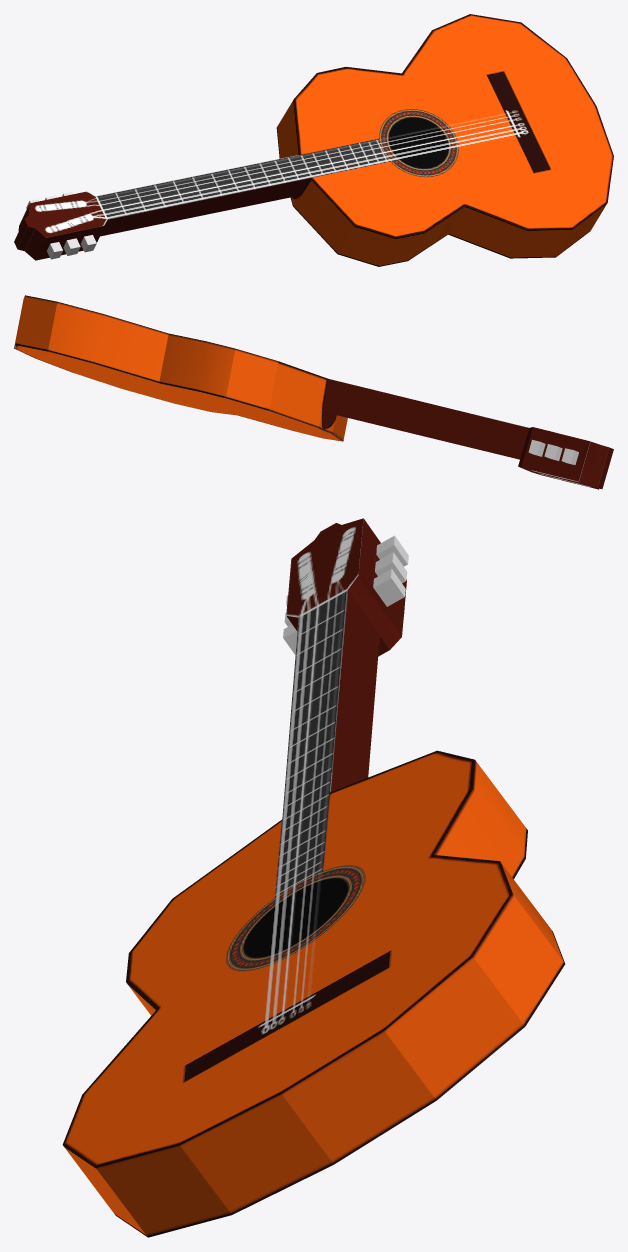
Rendered from guitarra2_000204.obj.
3 renders of one model, top to bottom at view 1: azimuth 30°, elevation 25°; view 2: azimuth 150°, elevation 25°; view 3: azimuth 270°, elevation 25°, orthographic. The views are drawn at different scales.
Parts seen in each view (by area): view 1: g2_pPlane4.001; view 2: g2_pPlane4.001; view 3: g2_pPlane4.001.
Boxes of the visible parts, x1,y1,x2,y2 form: g2_pPlane4.001: (14, 14, 613, 266); g2_pPlane4.001: (14, 295, 613, 489); g2_pPlane4.001: (62, 518, 565, 1237).
Size of the model in its own units: 12.35 by 3.54 by 4.82.
